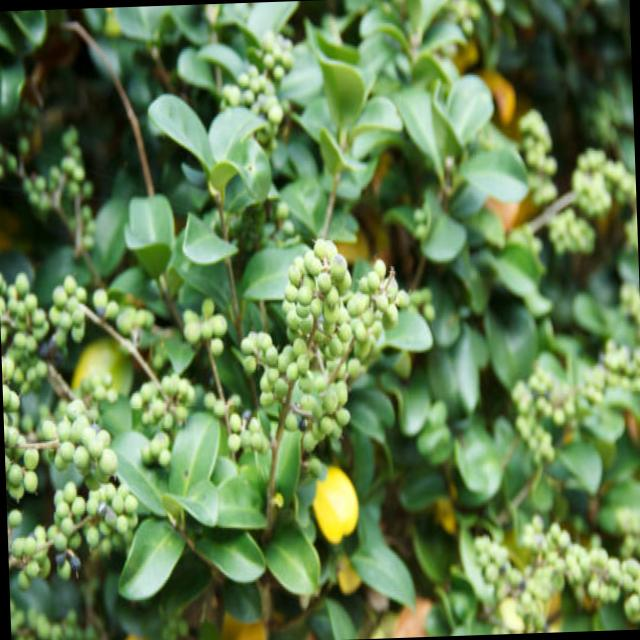Gugal: (13, 77, 600, 566), (383, 295, 640, 637), (21, 304, 263, 640), (108, 34, 362, 256), (390, 20, 600, 286), (202, 218, 400, 478)
